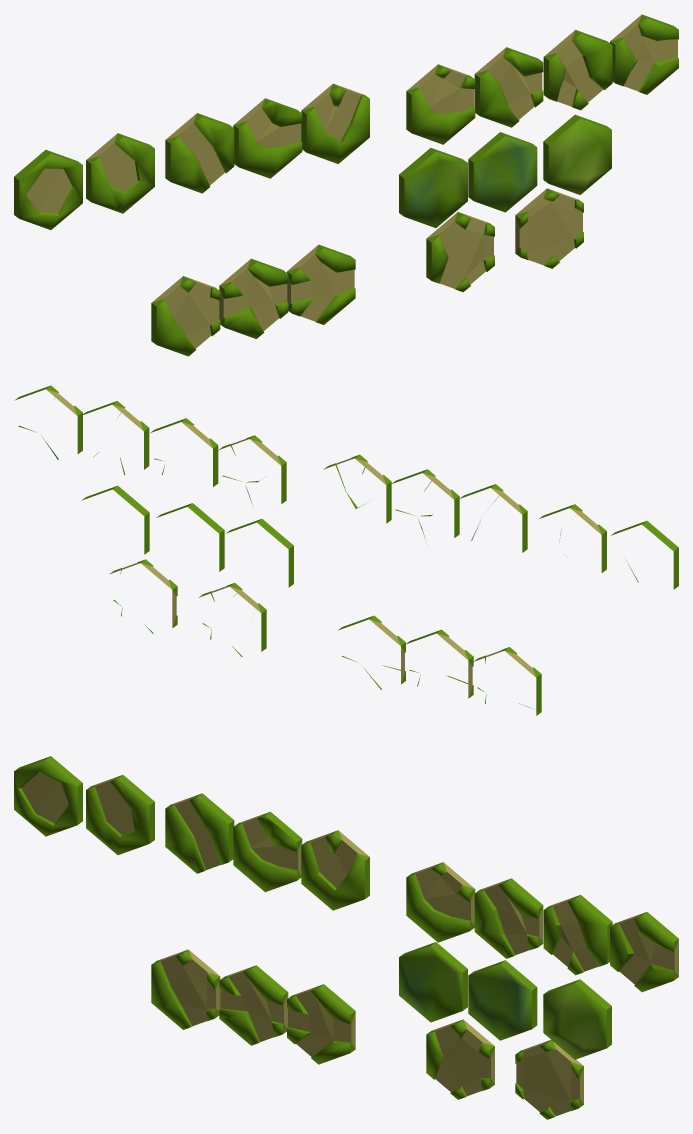
The model's file is Hex2.glb.
3 views of the same model, one above another, from view 1: azimuth 30°, elevation 25°; view 2: azimuth 150°, elevation 25°; view 3: azimuth 330°, elevation 25° (orthographic).
Parts seen in each view (by area): view 1: Grass_O2, Grass_T1, Grass_P1, Grass_T3, Grass_O1, Grass_O3, Grass_E, Grass_N, Grass_Q1, Grass_P2, Grass_P3, Grass_T2 (+5 smaller); view 2: Grass_P3, Grass_P2, Grass_T1, Grass_T4, Grass_F, Grass_N, Grass_Q2, Grass_Q1, Grass_T3, Grass_P1, Grass_T2, Grass_Q3 (+5 smaller); view 3: Grass_O2, Grass_T2, Grass_Q1, Grass_P2, Grass_T1, Grass_P3, Grass_E, Grass_P1, Grass_O1, Grass_N, Grass_O3, Grass_T4 (+5 smaller).
Part boxes in pixels (<box>): Grass_O2: <box>468,132,537,212</box>; Grass_T1: <box>406,64,475,144</box>; Grass_P1: <box>165,113,234,193</box>; Grass_T3: <box>543,30,612,110</box>; Grass_O1: <box>399,148,467,227</box>; Grass_O3: <box>543,114,611,194</box>; Grass_E: <box>86,133,154,213</box>; Grass_N: <box>14,150,82,229</box>; Grass_Q1: <box>151,276,220,356</box>; Grass_P2: <box>233,98,302,178</box>; Grass_P3: <box>301,83,369,163</box>; Grass_T2: <box>474,47,543,127</box>; Grass_P3: <box>323,454,391,523</box>; Grass_P2: <box>391,469,459,539</box>; Grass_T1: <box>219,435,286,507</box>; Grass_T4: <box>14,385,82,459</box>; Grass_F: <box>198,583,266,656</box>; Grass_N: <box>610,521,678,589</box>; Grass_Q2: <box>405,629,473,698</box>; Grass_Q1: <box>473,647,541,715</box>; Grass_T3: <box>81,401,149,475</box>; Grass_P1: <box>459,484,527,552</box>; Grass_T2: <box>150,418,218,486</box>; Grass_Q3: <box>338,615,405,689</box>; Grass_O2: <box>468,960,537,1040</box>; Grass_T2: <box>474,878,543,958</box>; Grass_Q1: <box>151,949,220,1029</box>; Grass_P2: <box>233,811,302,892</box>; Grass_T1: <box>406,862,475,942</box>; Grass_P3: <box>301,830,369,910</box>; Grass_E: <box>86,775,154,854</box>; Grass_P1: <box>165,793,234,873</box>; Grass_O1: <box>399,942,467,1022</box>; Grass_N: <box>14,756,82,836</box>; Grass_O3: <box>543,979,611,1059</box>; Grass_T4: <box>610,912,678,992</box>.
Size of the model in its own units: 17.98 by 6.24 by 0.3283.
